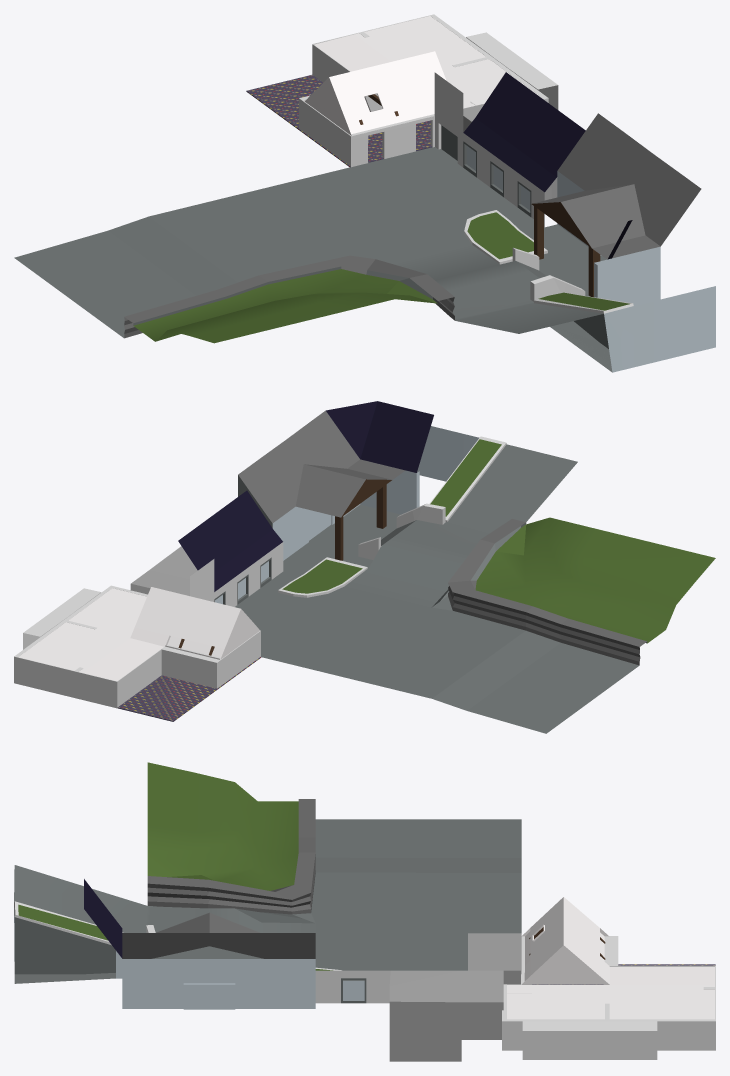
File: MP_Ass2_Arcade.fbx
The picture shows the model from 3 angles, top to bottom: view 1: azimuth 30°, elevation 25°; view 2: azimuth 150°, elevation 25°; view 3: azimuth 270°, elevation 25°; orthographic projection. The views are drawn at different scales.
Parts seen in each view (by area): view 1: Outside, Roof, Walls, Floor, Hallway; view 2: Outside, Roof, Walls, Floor, FrontDesk, Hallway; view 3: Outside, Roof, FrontDesk, Hallway, Walls.
Part boxes in pixels (x1=…): Outside: x1=14, y1=72, x2=715, y2=372; Roof: x1=304, y1=16, x2=540, y2=135; Walls: x1=299, y1=14, x2=548, y2=167; Floor: x1=246, y1=74, x2=431, y2=167; Hallway: x1=466, y1=32, x2=558, y2=109; Outside: x1=178, y1=401, x2=715, y2=733; Roof: x1=18, y1=587, x2=259, y2=681; Walls: x1=14, y1=585, x2=260, y2=708; Floor: x1=117, y1=657, x2=261, y2=721; FrontDesk: x1=130, y1=546, x2=197, y2=595; Hallway: x1=23, y1=588, x2=101, y2=649; Outside: x1=14, y1=762, x2=521, y2=1009; Roof: x1=507, y1=897, x2=714, y2=1019; FrontDesk: x1=389, y1=970, x2=520, y2=1061; Hallway: x1=522, y1=1021, x2=657, y2=1059; Walls: x1=502, y1=936, x2=715, y2=1050.
Size of the model in its own units: 13467 by 3091 by 16080.
